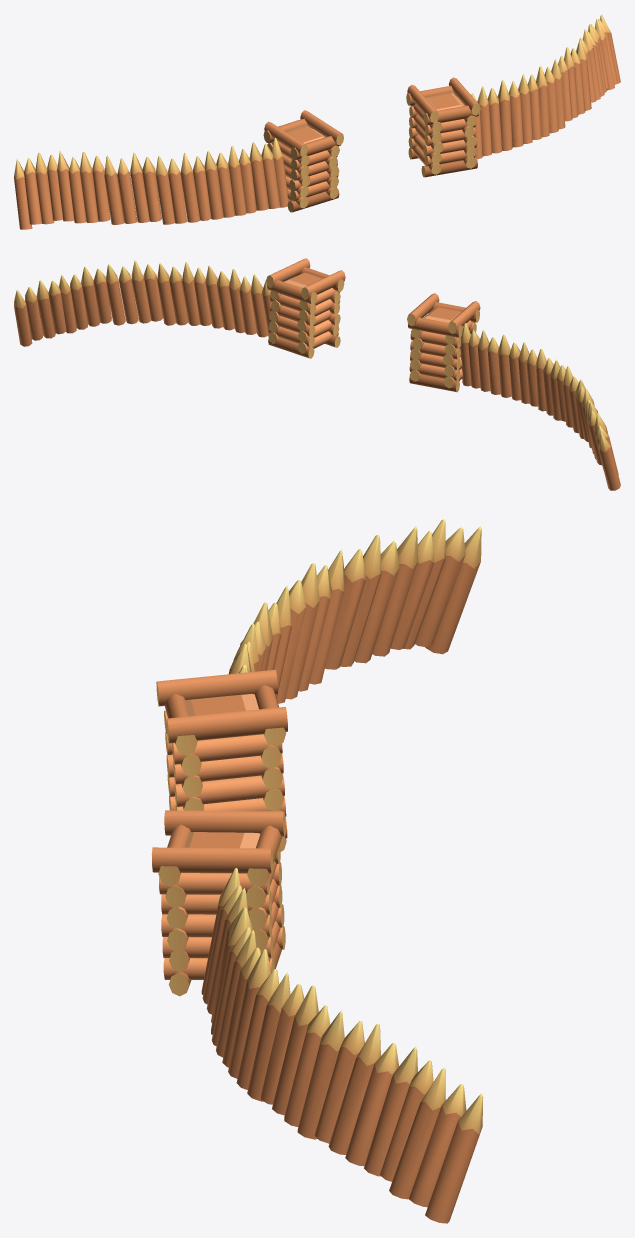
Rendered from Walls_prefab_v01.fbx.
The picture shows the model from 3 angles, top to bottom: view 1: azimuth 30°, elevation 25°; view 2: azimuth 150°, elevation 25°; view 3: azimuth 270°, elevation 25°; orthographic projection. The views are drawn at different scales.
Visible parts, largest first — view 1: Wooden_wall_left, Wooden_wall_right, wood_tower_front_2, wood_tower_front_1; view 2: Wooden_wall_right, Wooden_wall_left, wood_tower_front_2, wood_tower_front_1; view 3: Wooden_wall_right, Wooden_wall_left, wood_tower_front_2, wood_tower_front_1.
Part boxes in pixels (x1=…): Wooden_wall_left: x1=14, y1=138, x2=289, y2=229; Wooden_wall_right: x1=471, y1=14, x2=620, y2=159; wood_tower_front_2: x1=406, y1=77, x2=480, y2=177; wood_tower_front_1: x1=263, y1=110, x2=343, y2=212; Wooden_wall_right: x1=14, y1=260, x2=271, y2=346; Wooden_wall_left: x1=460, y1=323, x2=620, y2=490; wood_tower_front_2: x1=266, y1=258, x2=345, y2=358; wood_tower_front_1: x1=407, y1=293, x2=480, y2=392; Wooden_wall_right: x1=201, y1=868, x2=483, y2=1223; Wooden_wall_left: x1=229, y1=519, x2=481, y2=703; wood_tower_front_2: x1=151, y1=810, x2=285, y2=996; wood_tower_front_1: x1=156, y1=669, x2=287, y2=851.
Bounding box in the file's own units: 5546 × 789 × 1328.
